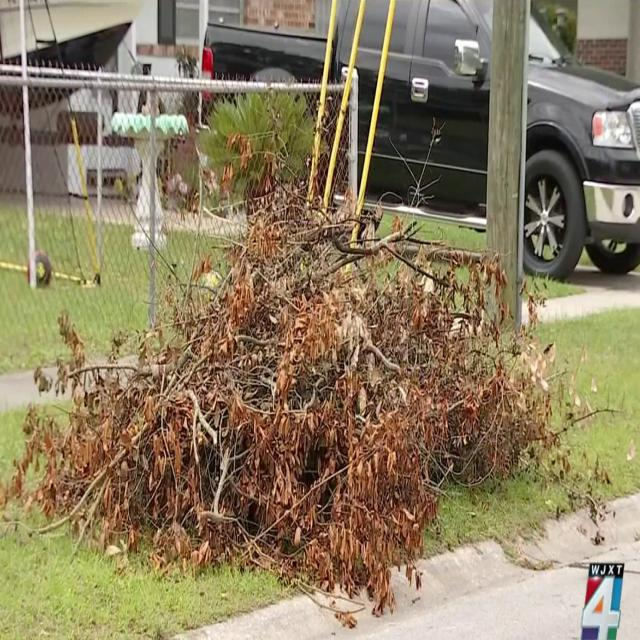dry_waste: (293, 190, 492, 541), (93, 269, 288, 537)
